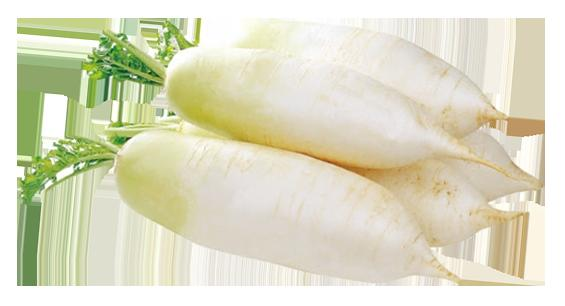radish: (94, 62, 415, 138), (144, 23, 423, 80)
